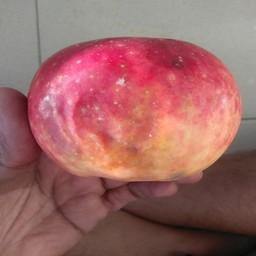Bad_apple: (26, 39, 224, 170)
